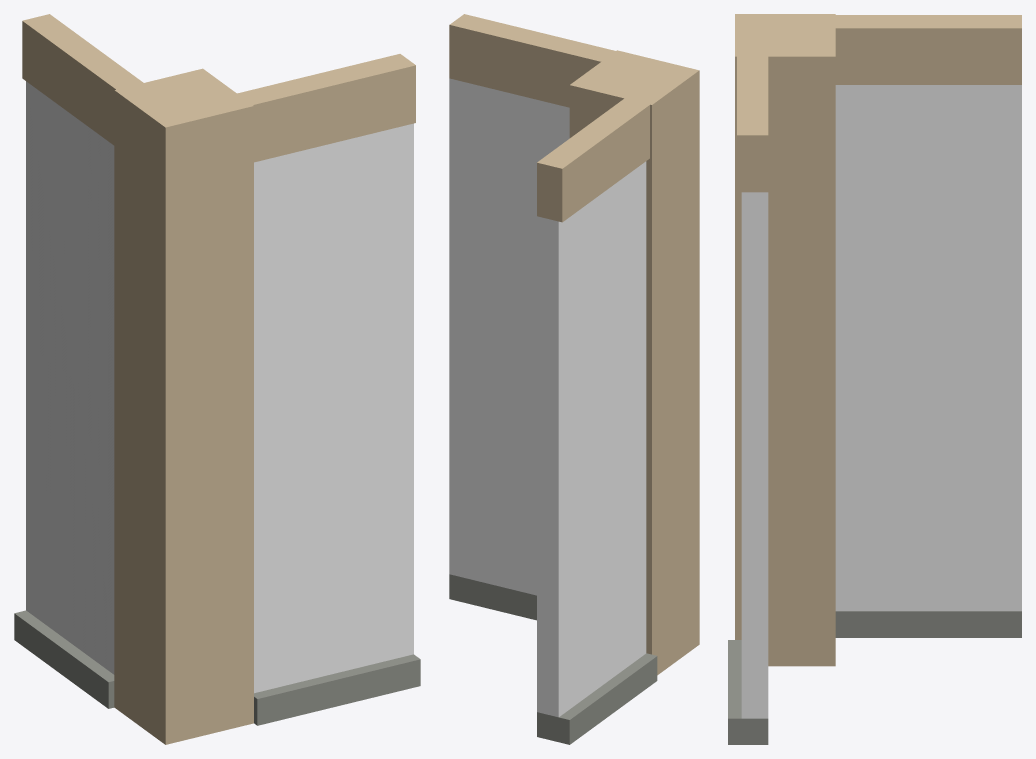
The model's file is mid-c1.fbx.
3 views of the same model, side by side, from view 1: azimuth 30°, elevation 25°; view 2: azimuth 150°, elevation 25°; view 3: azimuth 270°, elevation 25° (orthographic). The views are drawn at different scales.
Visible parts, largest first — view 1: a2001_600_mid-c1; view 2: a2001_600_mid-c1; view 3: a2001_600_mid-c1.
Part boxes in pixels (x1=…): a2001_600_mid-c1: x1=14, y1=14, x2=420, y2=744; a2001_600_mid-c1: x1=449, y1=14, x2=699, y2=744; a2001_600_mid-c1: x1=728, y1=14, x2=1021, y2=744.
Bounding box in the file's own units: 1.31 × 3 × 1.31.
